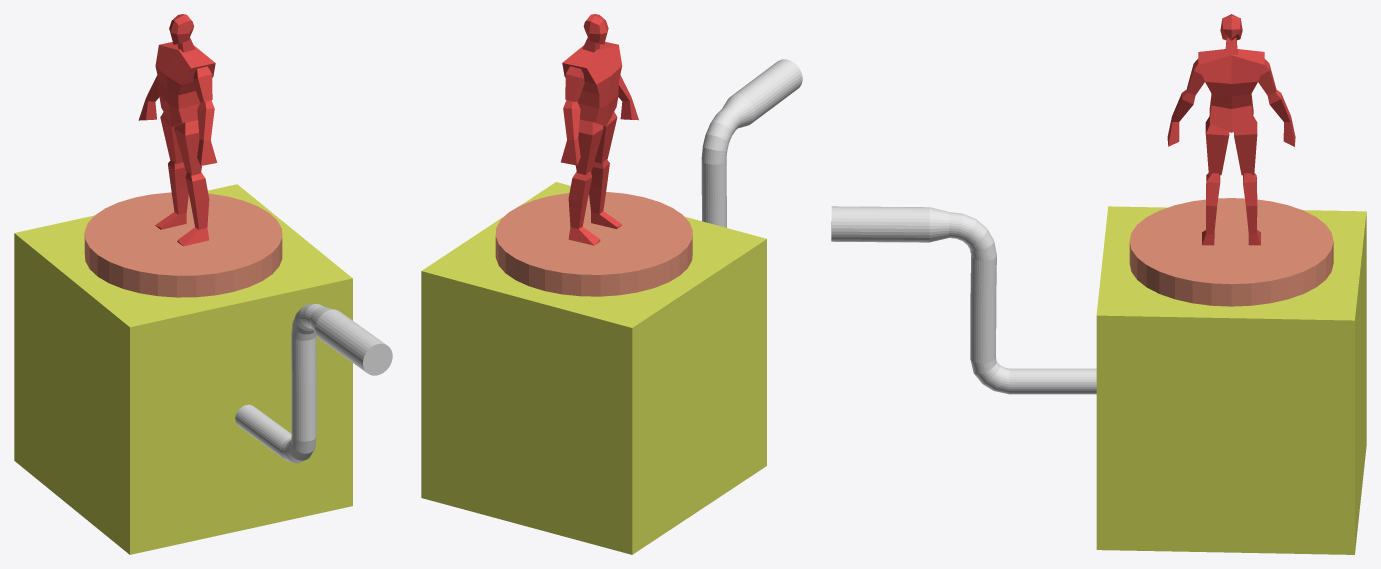
The model's file is musicbox.glb.
3 views of the same model, side by side, from view 1: azimuth 30°, elevation 25°; view 2: azimuth 150°, elevation 25°; view 3: azimuth 270°, elevation 25° (orthographic). The views are drawn at different scales.
Visible parts, largest first — view 1: Cube, Cylinder.001, Cube.001, Cylinder; view 2: Cube, Cylinder.001, Cube.001, Cylinder; view 3: Cube, Cylinder.001, Cylinder, Cube.001.
Part boxes in pixels (x1=…): Cube: x1=14, y1=184, x2=352, y2=554; Cylinder.001: x1=84, y1=192, x2=282, y2=297; Cube.001: x1=138, y1=14, x2=217, y2=246; Cylinder: x1=235, y1=303, x2=392, y2=463; Cube: x1=421, y1=182, x2=766, y2=554; Cylinder.001: x1=495, y1=192, x2=692, y2=296; Cube.001: x1=561, y1=14, x2=638, y2=245; Cylinder: x1=701, y1=59, x2=802, y2=227; Cube: x1=1096, y1=206, x2=1366, y2=554; Cylinder.001: x1=1129, y1=198, x2=1333, y2=306; Cylinder: x1=831, y1=206, x2=1096, y2=394; Cube.001: x1=1167, y1=14, x2=1295, y2=245.
Bounding box in the file's own units: 1.04 × 2.06 × 2.07.
